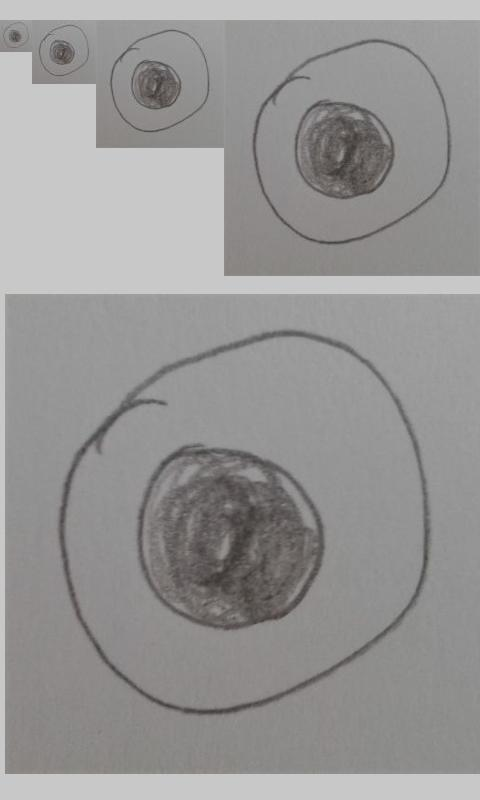radio_button: (55, 326, 432, 718), (249, 36, 453, 250), (109, 28, 210, 133), (38, 24, 90, 78), (2, 21, 30, 49)
